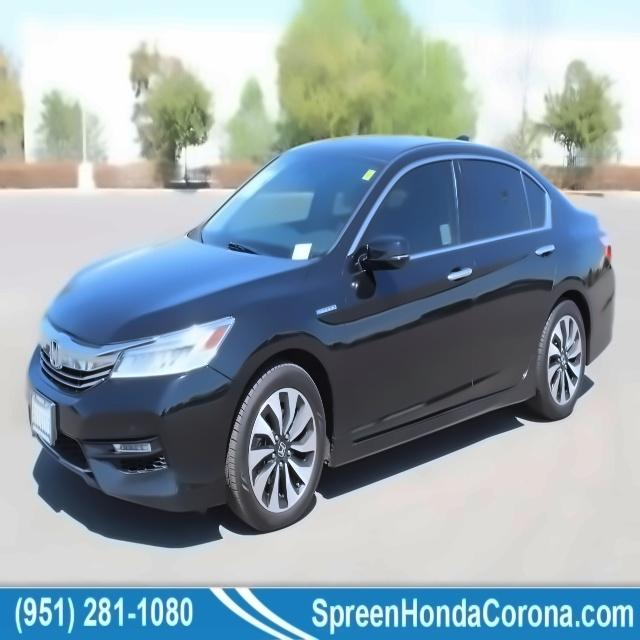Car hood: (39, 233, 319, 348)
Fender - -F-L-: (208, 254, 348, 475)
Fender - -R-L-: (538, 222, 606, 393)
Front bumper: (10, 353, 240, 518)
Headlight - -L-: (106, 310, 240, 384)
Passenger-s door - -F-L-: (348, 143, 471, 446)
Passenger-s door - -R-L-: (473, 147, 565, 407)
Rear bumper: (585, 293, 621, 370)
Rear light - -L-: (587, 222, 620, 265)
Side bumper - -L-: (323, 375, 555, 474)
Side mirror - -L-: (358, 227, 415, 278)
